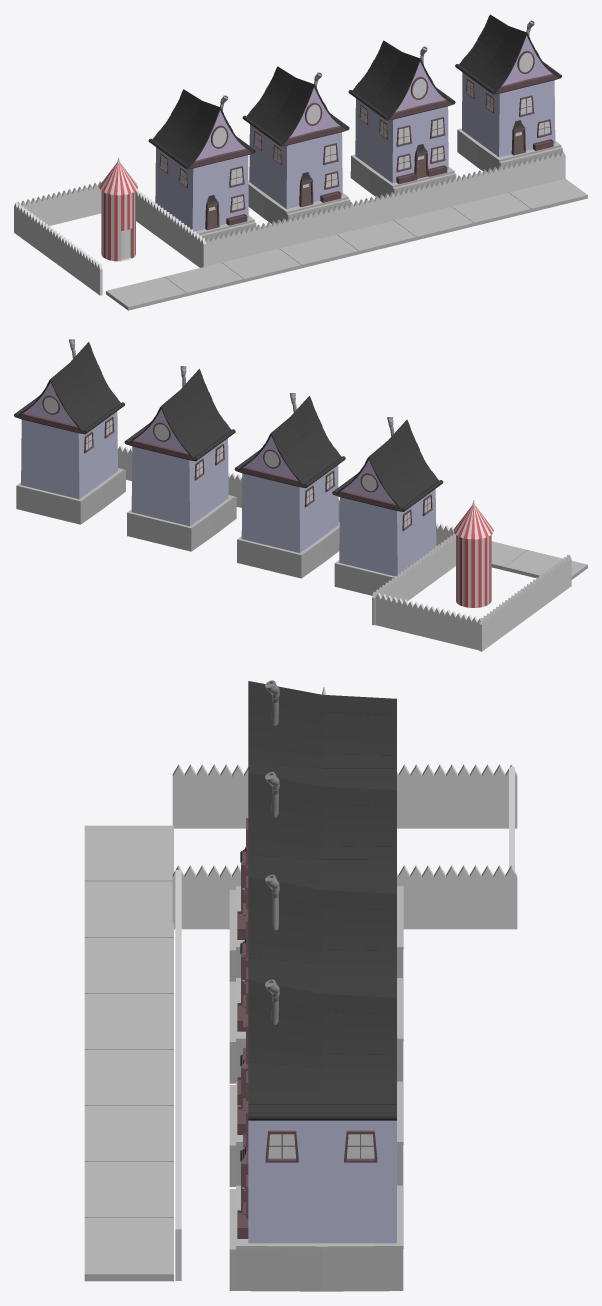
File: Suburbia.fbx
3 views of the same model, one above another, from view 1: azimuth 30°, elevation 25°; view 2: azimuth 150°, elevation 25°; view 3: azimuth 270°, elevation 25° (orthographic). The views are drawn at different scales.
Visible parts, largest first — view 1: house, house.001, Sidewalk, house.002, house.003, Fence, CircusTent, Fence.002, Fence.001, Fence.003; view 2: house, house.001, house.002, house.003, Fence.003, CircusTent, Fence.002, Fence.001, Sidewalk, Fence; view 3: house.001, Sidewalk, house, house.002, house.003, Fence.002, Fence.001, Fence.
Part boxes in pixels (x1,y1,x2,y2): house: (348, 40, 456, 198); house.001: (455, 14, 562, 172); Sidewalk: (106, 179, 587, 310); house.002: (242, 66, 350, 223); house.003: (148, 89, 256, 239); Fence: (205, 150, 565, 266); CircusTent: (99, 157, 137, 261); Fence.002: (14, 202, 102, 295); Fence.001: (136, 190, 206, 267); Fence.003: (17, 181, 101, 226); house: (124, 366, 236, 551); house.001: (14, 339, 125, 524); house.002: (234, 393, 345, 578); house.003: (332, 417, 443, 595); Fence.003: (375, 593, 481, 650); CircusTent: (453, 500, 493, 607); Fence.002: (479, 554, 571, 651); Fence.001: (372, 533, 455, 625); Sidewalk: (491, 541, 587, 579); Fence: (117, 445, 453, 545); house.001: (229, 979, 403, 1291); Sidewalk: (84, 825, 173, 1281); house: (229, 874, 403, 1186); house.002: (229, 772, 403, 1083); house.003: (229, 680, 403, 981); Fence.002: (172, 764, 517, 828); Fence.001: (172, 865, 517, 929); Fence: (175, 870, 181, 1280).
Size of what is drawn, in the model's own units: 3886 by 1125 by 1514.
